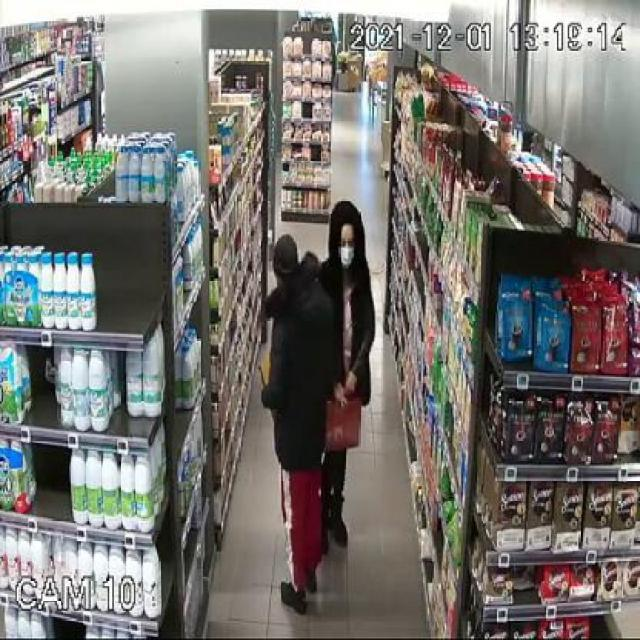Shoplifting: (236, 191, 425, 640)
